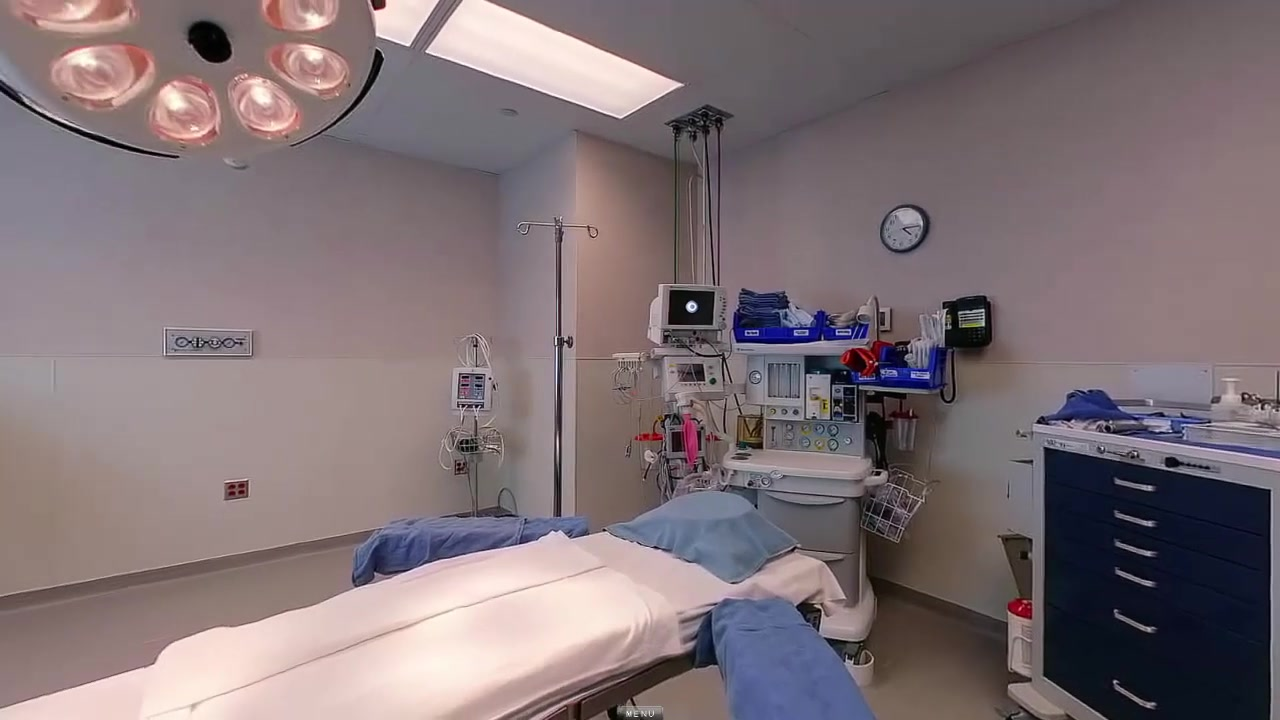bedside_monitor: (654, 283, 729, 336)
handle: (766, 489, 843, 506), (1113, 609, 1157, 635), (1114, 681, 1155, 708), (1111, 538, 1160, 559), (1114, 567, 1158, 590), (1110, 508, 1157, 528), (1110, 474, 1156, 493), (801, 548, 847, 562), (869, 467, 888, 483)
iv_pole: (515, 215, 601, 517), (454, 334, 493, 515)
medical_drawer: (1032, 420, 1280, 720)
operating_bed: (1, 490, 872, 720)
surgical_light: (1, 1, 374, 164)
telephone: (939, 295, 993, 349)
